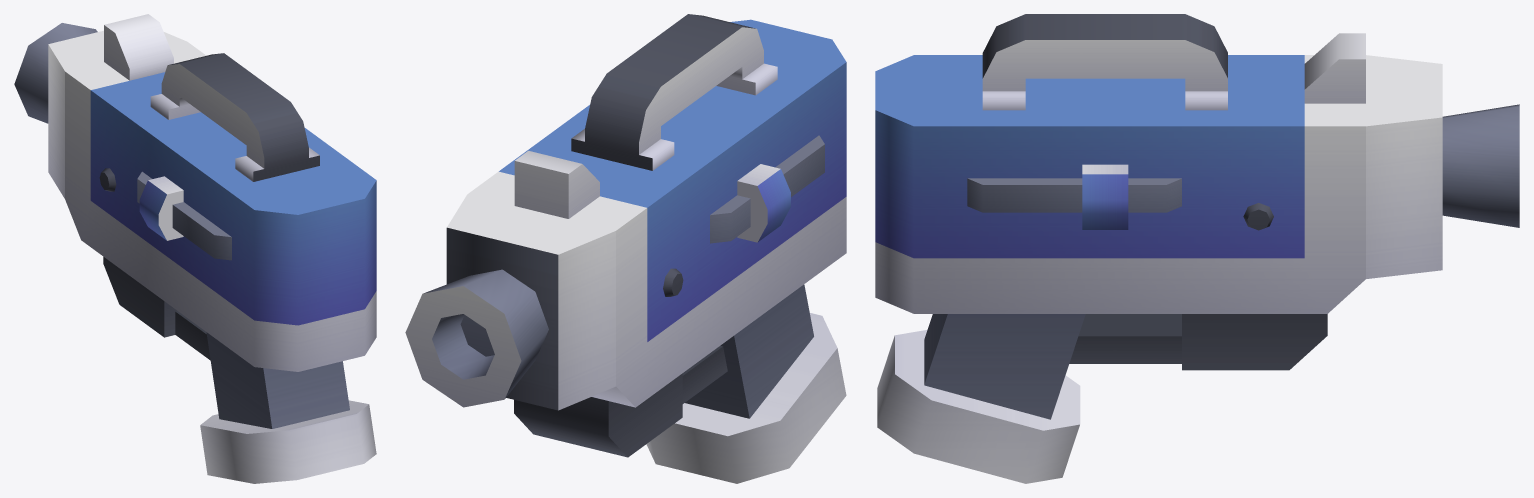
Rendered from blaster-b.glb.
3 views of the same model, side by side, from view 1: azimuth 30°, elevation 25°; view 2: azimuth 150°, elevation 25°; view 3: azimuth 270°, elevation 25° (orthographic). The views are drawn at different scales.
Parts seen in each view (by area): view 1: blaster-b; view 2: blaster-b; view 3: blaster-b.
Boxes of the visible parts, left/top/right/bottom form: blaster-b: left=14, top=14, right=376, bottom=483; blaster-b: left=405, top=14, right=846, bottom=483; blaster-b: left=875, top=14, right=1519, bottom=483.
Size of the model in its own units: 0.155 by 0.3105 by 0.4201.
Materials: 1 (1 with a texture image).
